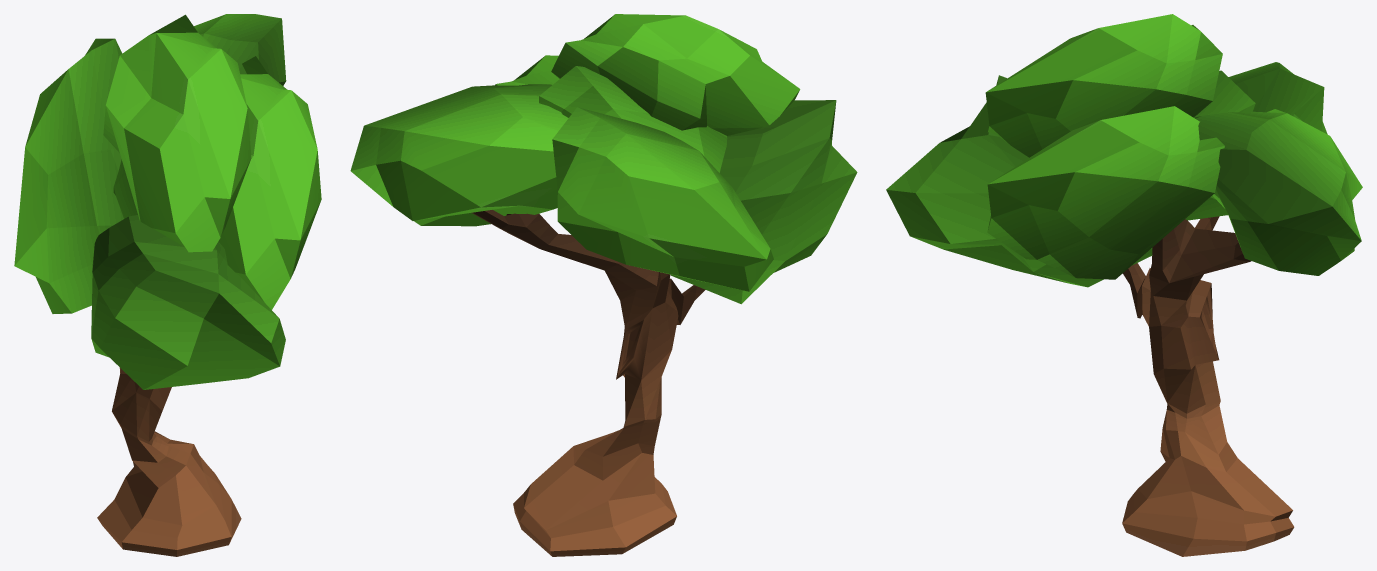
The model's file is SM_TreeVar1.fbx.
3 views of the same model, side by side, from view 1: azimuth 30°, elevation 25°; view 2: azimuth 150°, elevation 25°; view 3: azimuth 270°, elevation 25° (orthographic). The views are drawn at different scales.
Visible parts, largest first — view 1: Tree_Var1; view 2: Tree_Var1; view 3: Tree_Var1.
Part boxes in pixels (<box>): Tree_Var1: <box>14,14,321,556</box>; Tree_Var1: <box>350,14,857,556</box>; Tree_Var1: <box>886,14,1362,556</box>.
Size of the model in its own units: 41.76 by 61.39 by 51.55.
